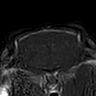Brain: (20, 33, 78, 68)
